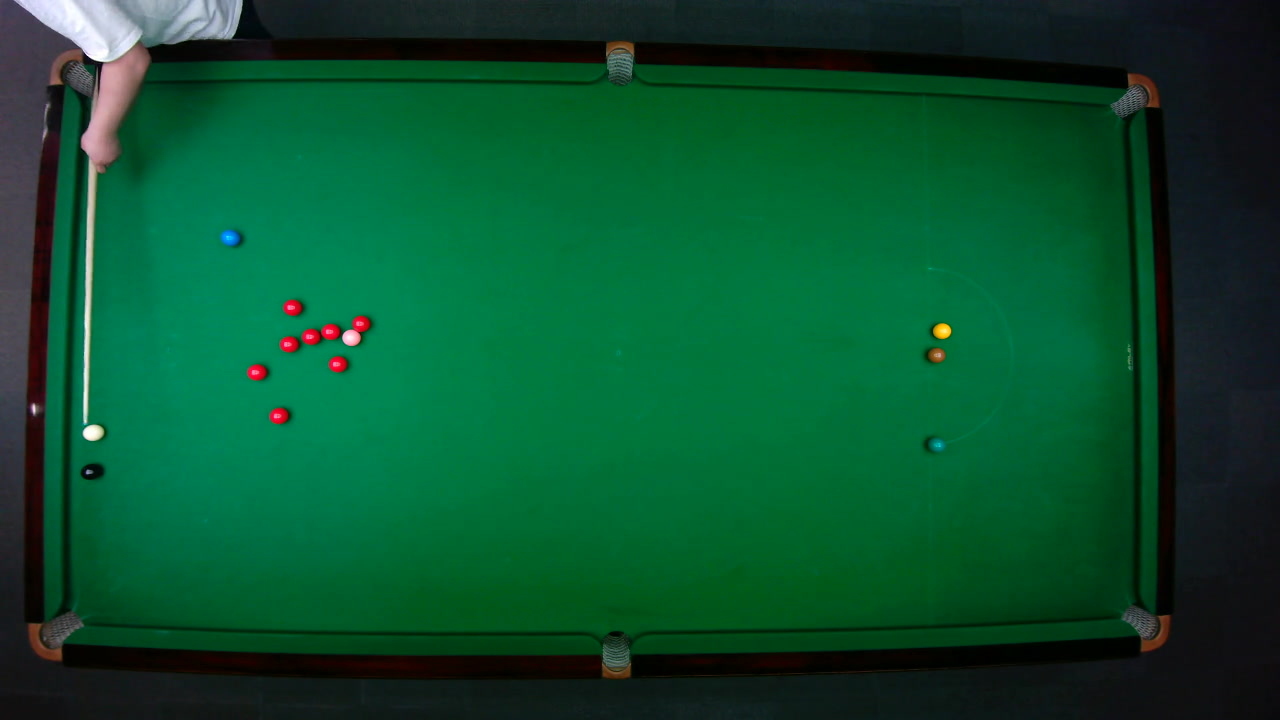bag: (26, 609, 84, 660), (1118, 602, 1170, 651), (47, 49, 101, 96), (1108, 72, 1160, 119), (600, 629, 630, 679), (605, 39, 633, 86)
black: (79, 462, 100, 480)
blue: (219, 227, 240, 246)
brown: (926, 346, 945, 363)
cue: (79, 150, 102, 427)
green: (925, 435, 945, 452)
pink: (340, 328, 361, 346)
red: (245, 362, 267, 381), (327, 354, 348, 373), (267, 406, 289, 424), (277, 334, 299, 352), (299, 327, 321, 345), (350, 314, 371, 332), (319, 322, 340, 339), (281, 298, 302, 315)
white: (81, 422, 105, 441)
yellow: (931, 321, 952, 339)
zone: (925, 265, 1013, 444)
